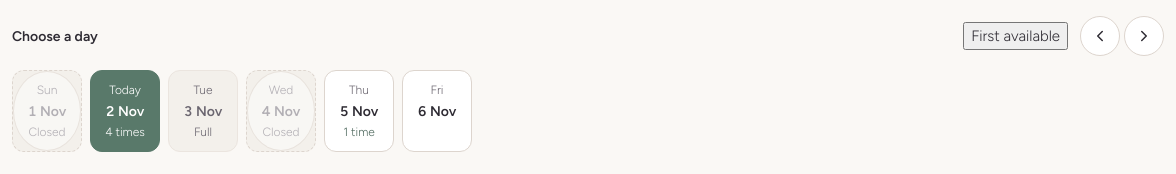
Scenario: the arrow keys move between days and pass over closed ones
Click the radio button with aria-label "Monday 2 November". click: (125, 111)
box: [90,70,160,152]
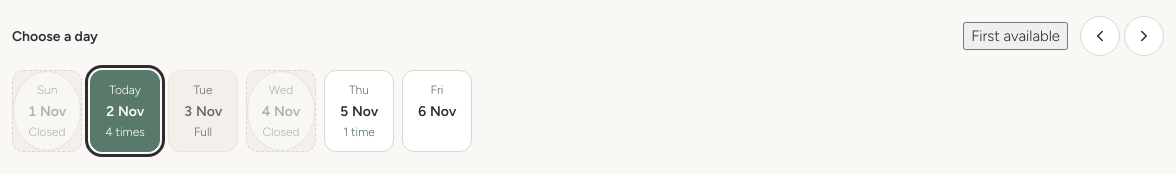
Press Arrowright
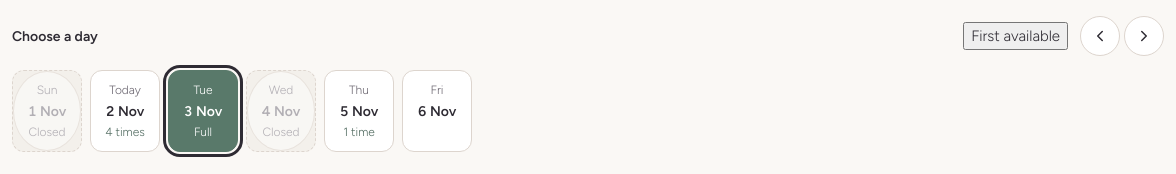
Now the radio button with aria-label "Tuesday 3 November, full" is checked, box [168,70,238,152]
Press Arrowright
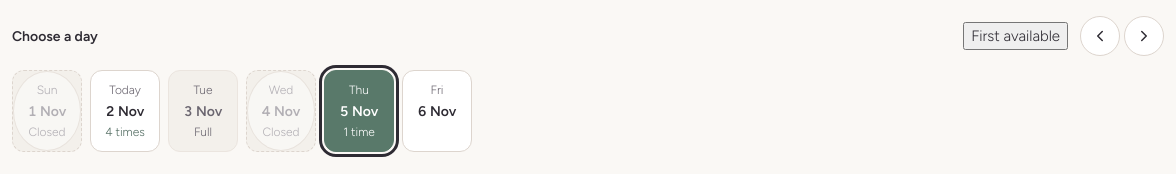
Now the radio button with aria-label "Thursday 5 November, 1 time free" is checked, box [324,70,394,152]
